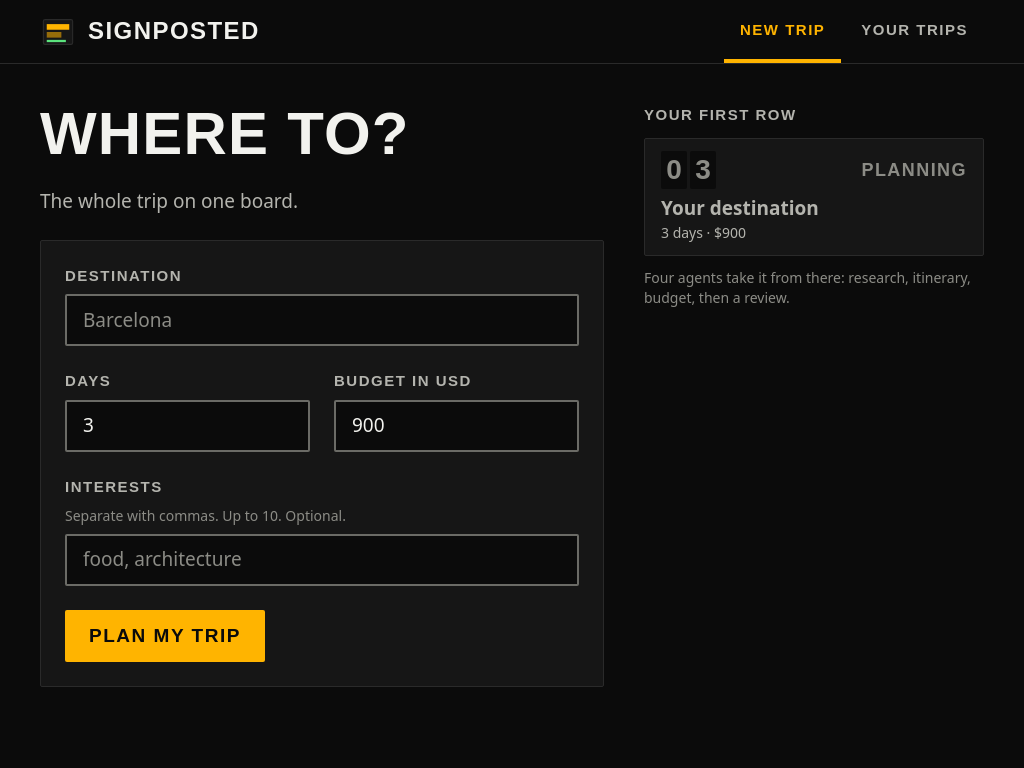
Test: app › creates a trip and moves to the progress view
The width and height of the screenshot is (1024, 768).
Type "Lisbon" into the field labelled "Destination" at (322, 320), box [65, 294, 579, 346]
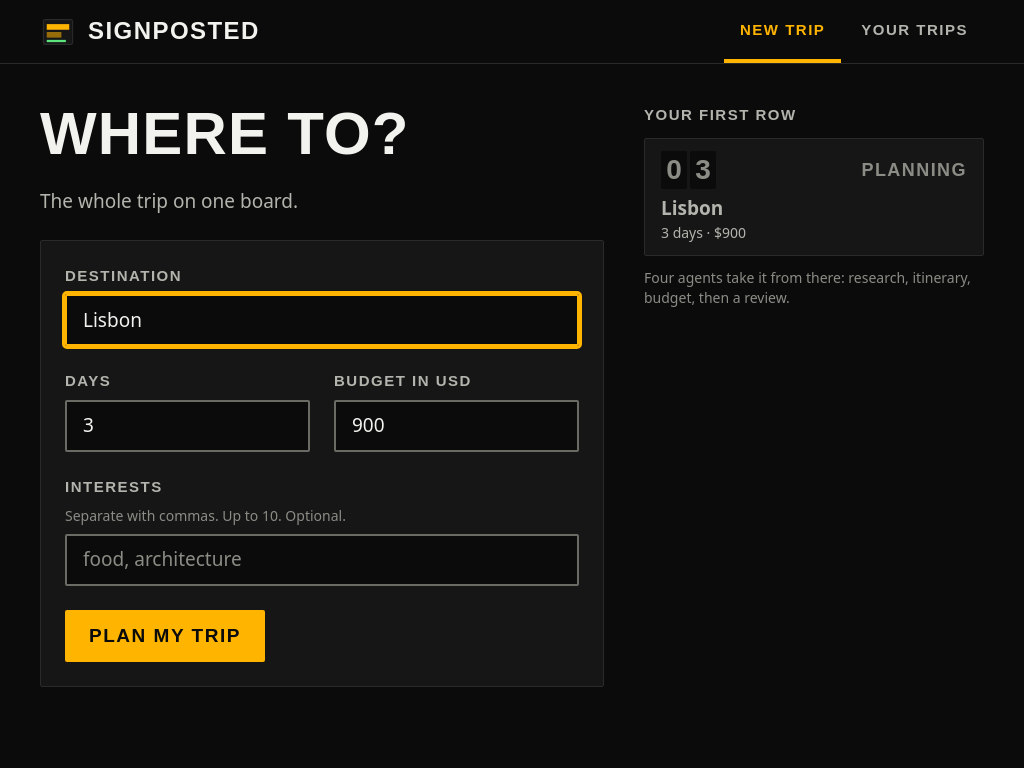
Click the button "Plan my trip" at (165, 636), box [65, 610, 265, 662]
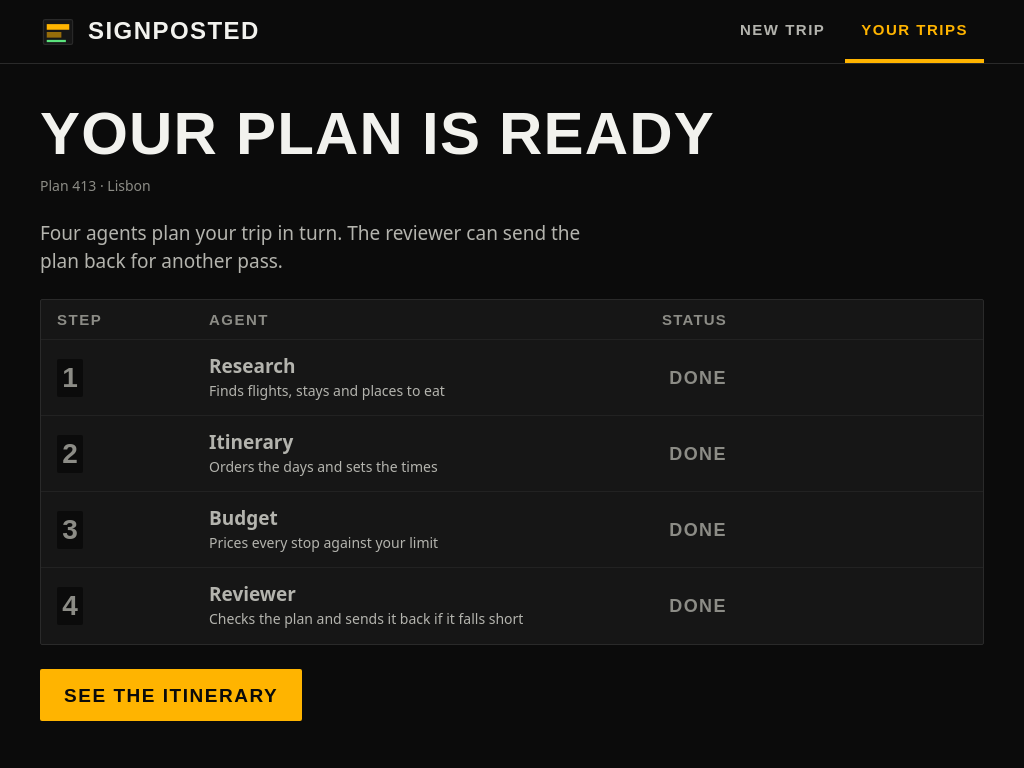
Expected: the heading named "the crew is on it" is shown, [40, 100, 715, 167]
Now the link "See the itinerary" is shown, box [40, 669, 302, 721]
